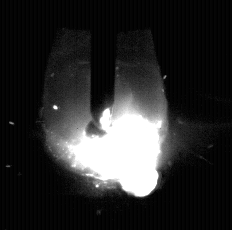arame: (91, 0, 116, 137)
poca: (45, 0, 167, 230)
